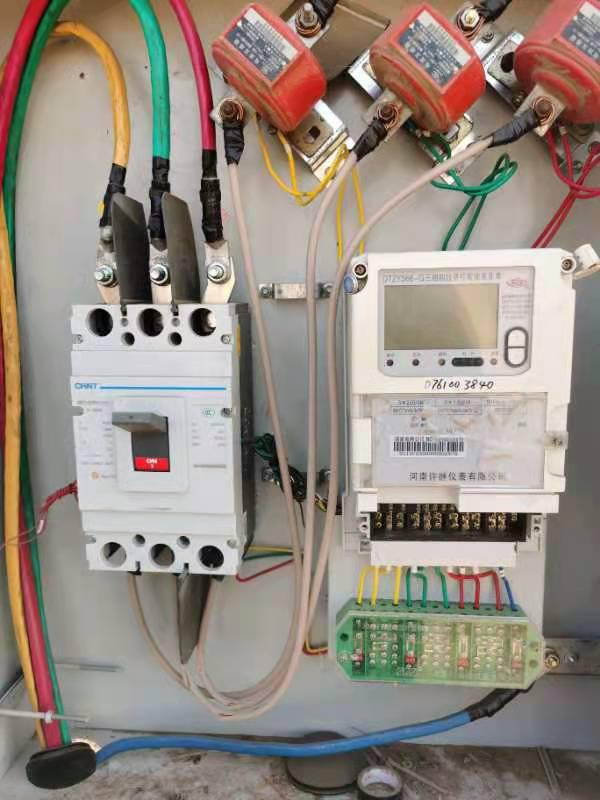digital: (349, 250, 573, 490)
